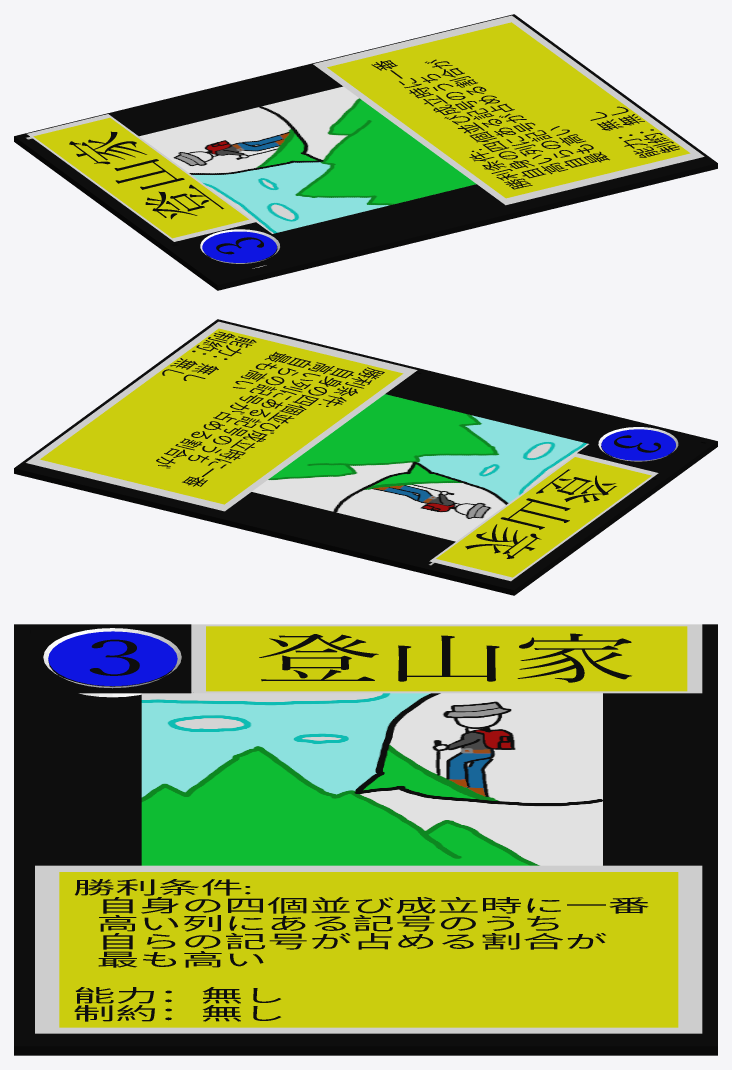
The model's file is 登山家黒.fbx.
3 renders of one model, top to bottom at view 1: azimuth 30°, elevation 25°; view 2: azimuth 150°, elevation 25°; view 3: azimuth 270°, elevation 25°, orthographic. The views are drawn at different scales.
Parts seen in each view (by area): view 1: 説明欄, 平面.001, カード本体.001, 名前欄, 説明文, 円, 平面, 名前; view 2: 説明欄, 平面.001, カード本体.001, 名前欄, 説明文, 円, 平面, 名前; view 3: 説明欄, 平面.001, カード本体.001, 名前欄, 説明文, 円, 平面, 名前, コスト蘭.
Part boxes in pixels (<box>): 説明欄: <box>313,15,704,205</box>; 平面.001: <box>139,86,476,233</box>; カード本体.001: <box>14,14,717,290</box>; 名前欄: <box>27,114,255,241</box>; 説明文: <box>371,59,679,189</box>; 円: <box>202,231,276,262</box>; 平面: <box>174,222,302,275</box>; 名前: <box>69,131,223,219</box>; 説明欄: <box>26,321,417,511</box>; 平面.001: <box>252,394,588,541</box>; カード本体.001: <box>14,319,717,595</box>; 名前欄: <box>429,453,658,581</box>; 説明文: <box>156,331,384,486</box>; 円: <box>601,429,675,460</box>; 平面: <box>577,419,704,472</box>; 名前: <box>465,469,616,558</box>; 説明欄: <box>35,865,702,1033</box>; 平面.001: <box>141,693,602,865</box>; カード本体.001: <box>14,624,717,1055</box>; 名前欄: <box>191,624,702,693</box>; 説明文: <box>74,879,648,1021</box>; 円: <box>48,631,177,686</box>; 平面: <box>30,624,191,693</box>; 名前: <box>259,633,631,682</box>; コスト蘭: <box>43,628,181,697</box>.
Size of the model in its own units: 281 by 6.07 by 198.
